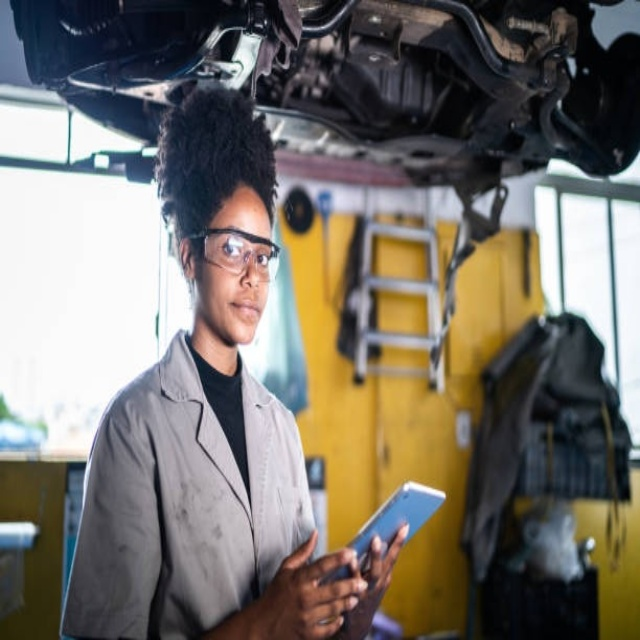Gafas: (188, 229, 284, 282)
Sin_guantes: (270, 524, 367, 637), (345, 518, 415, 635)
Sin_mascara: (225, 289, 267, 336)
